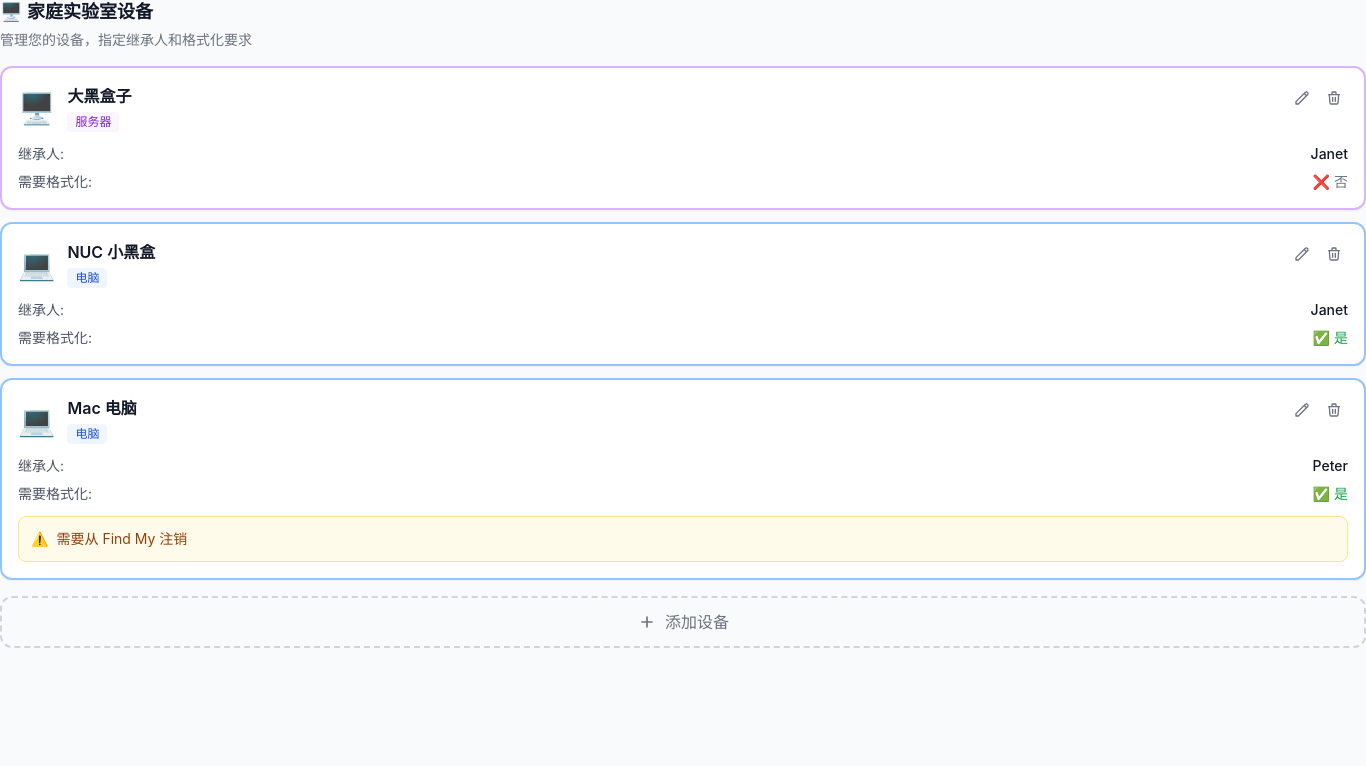
Scenario: DeviceCardList › Add Device › should show form when add button is clicked
Click the button with test id "add-device-button" at (683, 622), box [0,596,1365,648]
(page scrolled)
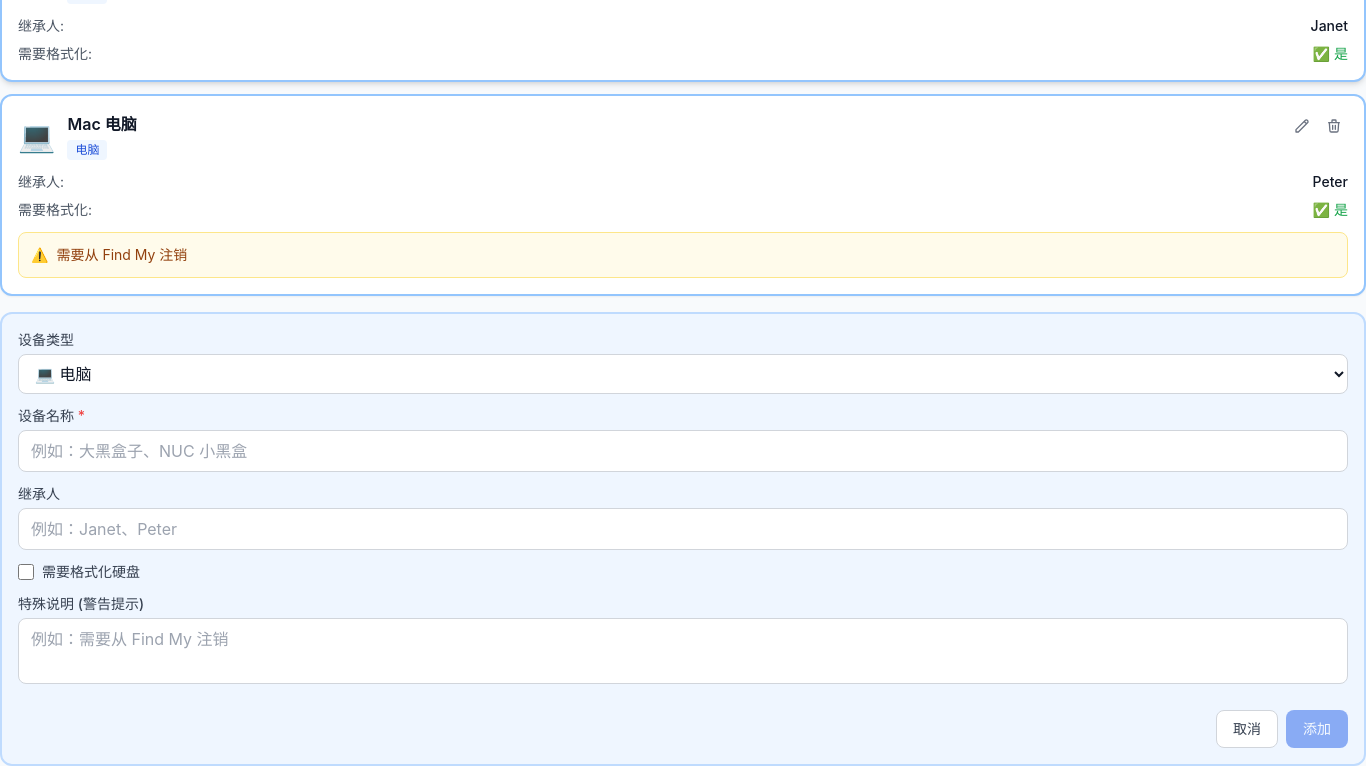
Expected: the form with test id "device-card-form" is shown, [0,312,1365,765]
